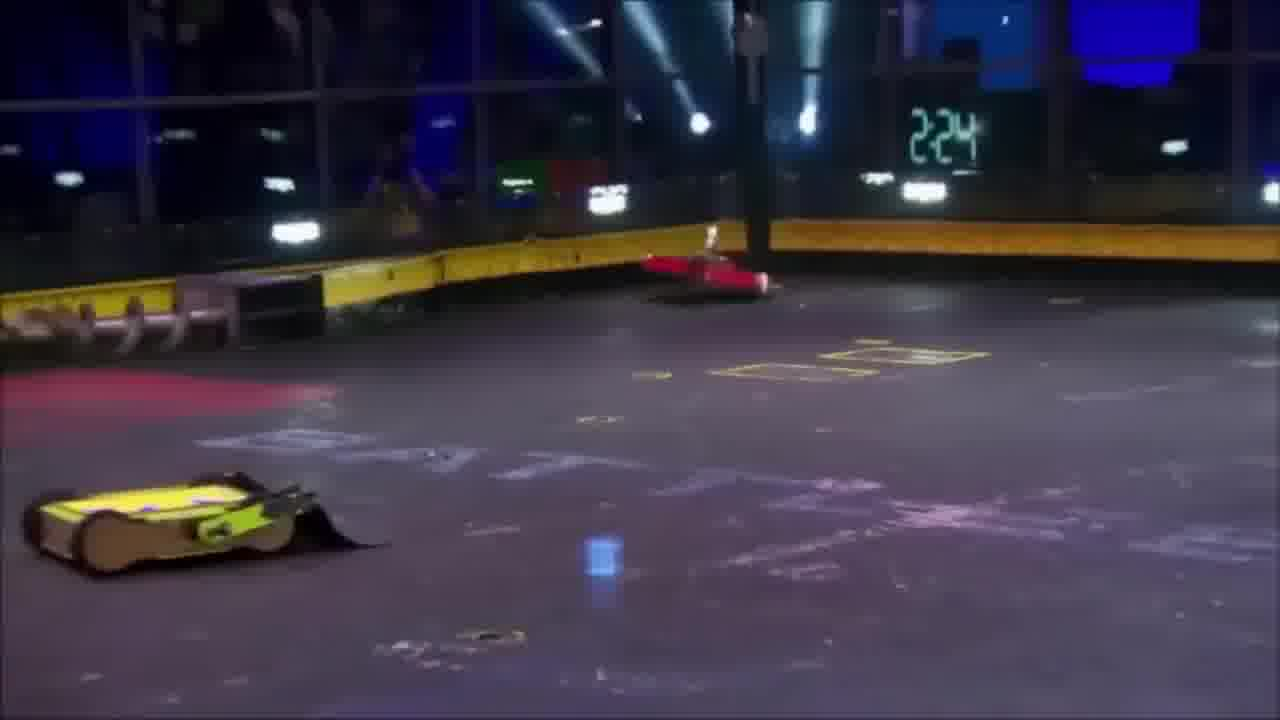combatbot: (20, 470, 294, 582), (640, 249, 770, 307)
